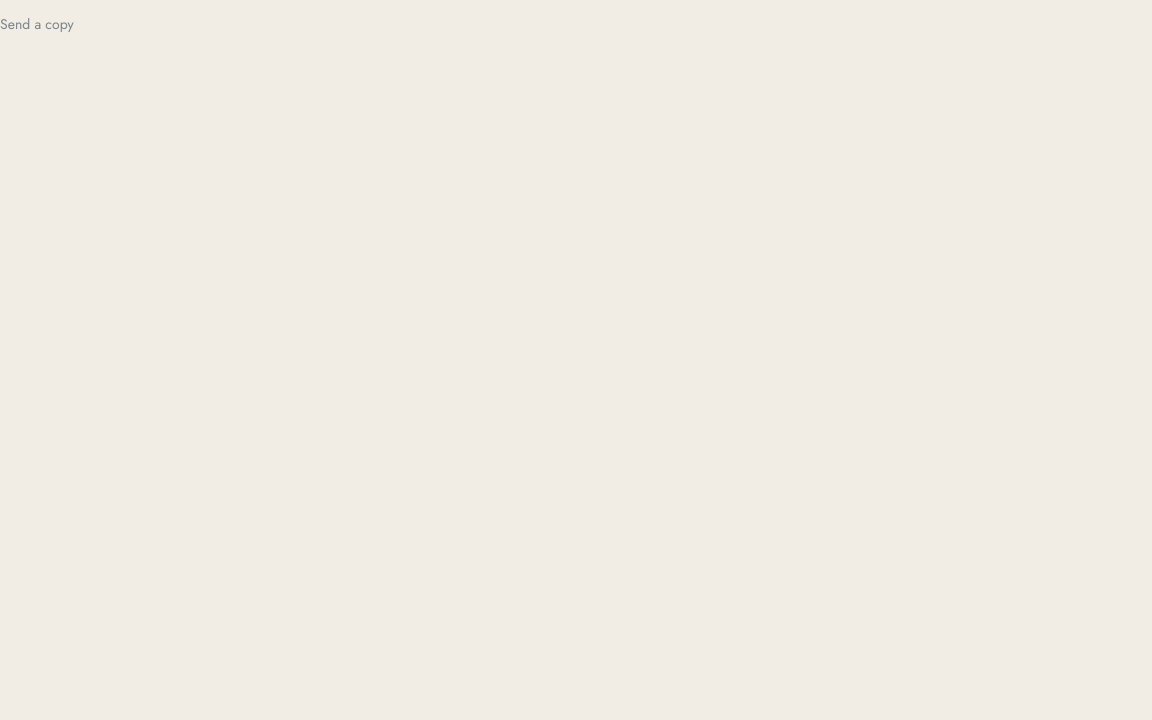
Test: artifact copy sending › includes a note only after turning on the toggle
Later steps or results of the test are not shown.
Click the button "Send a copy".
click(37, 24)  # box [0,6,74,42]
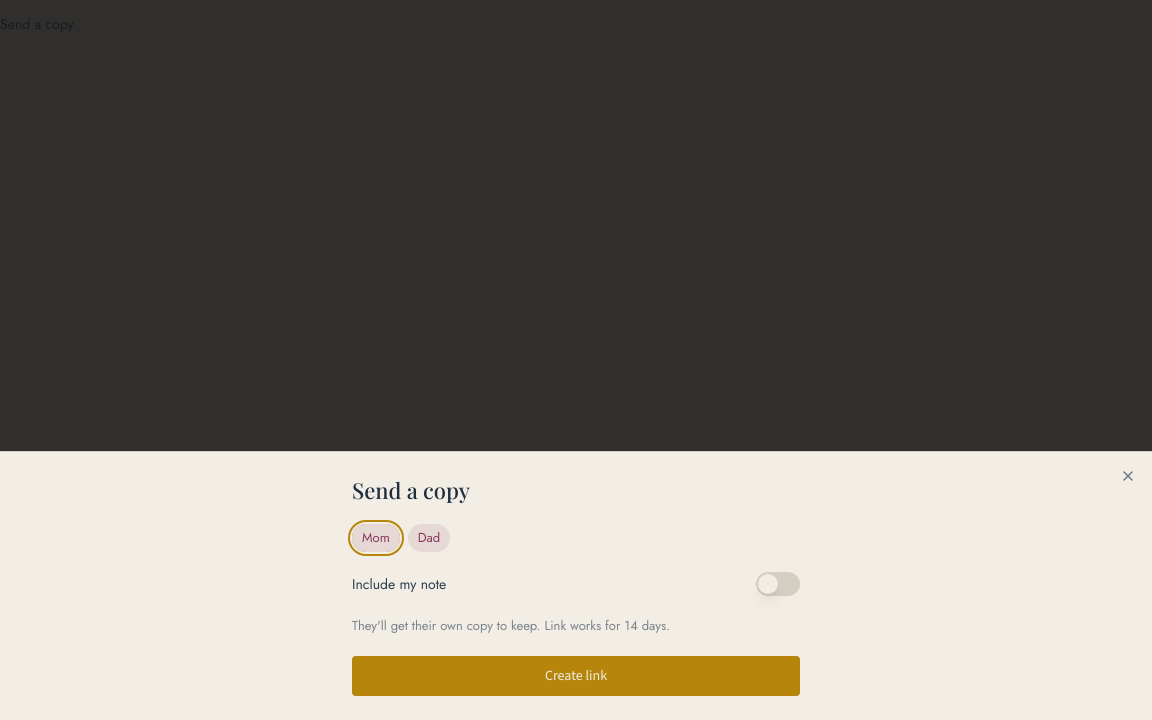
Expected: the button "Create link" is enabled, [352,656,800,696]
